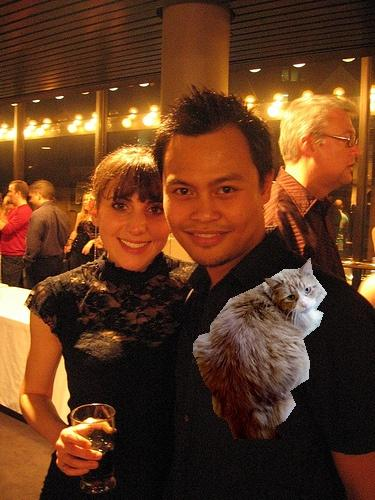tampered: (193, 259, 327, 439)
